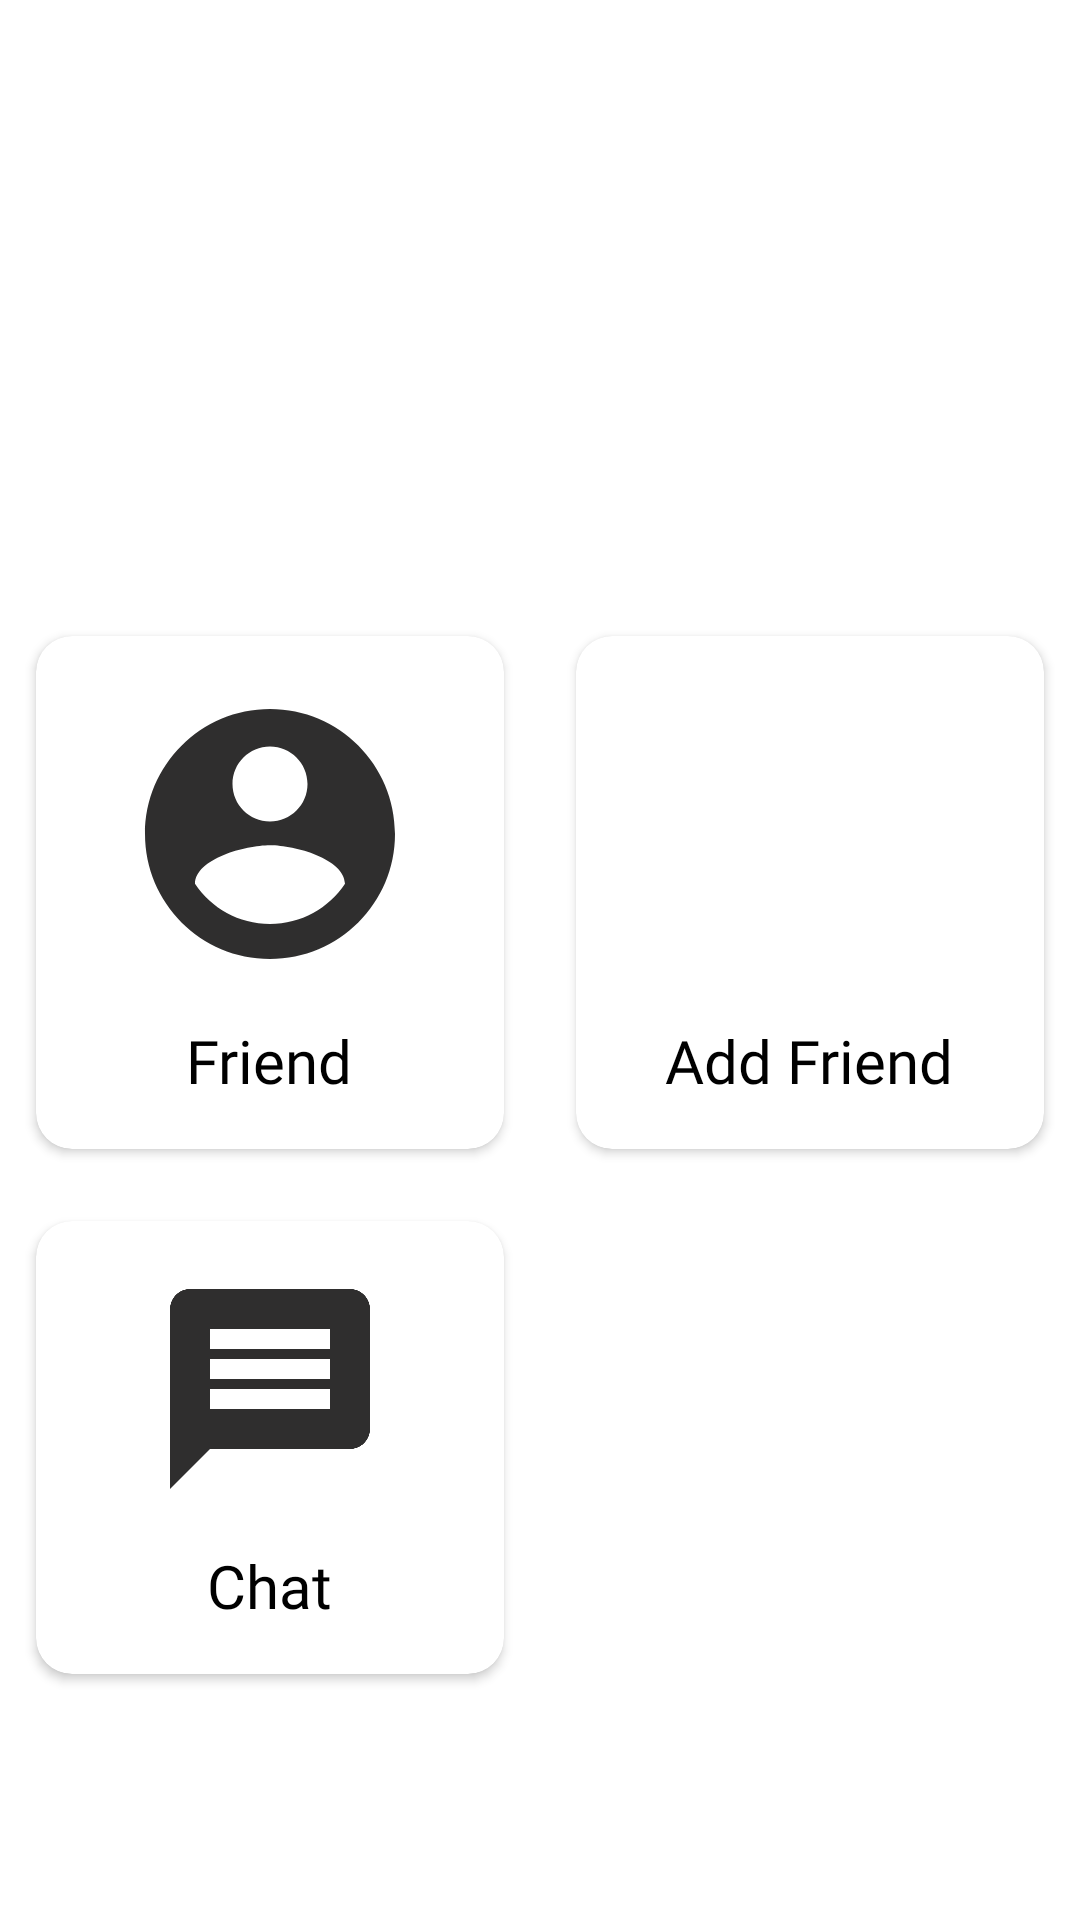

Named icons in this screenshot (1080×1920) and their centers, point (x, y):
account: point (270, 834)
message: point (270, 1389)
